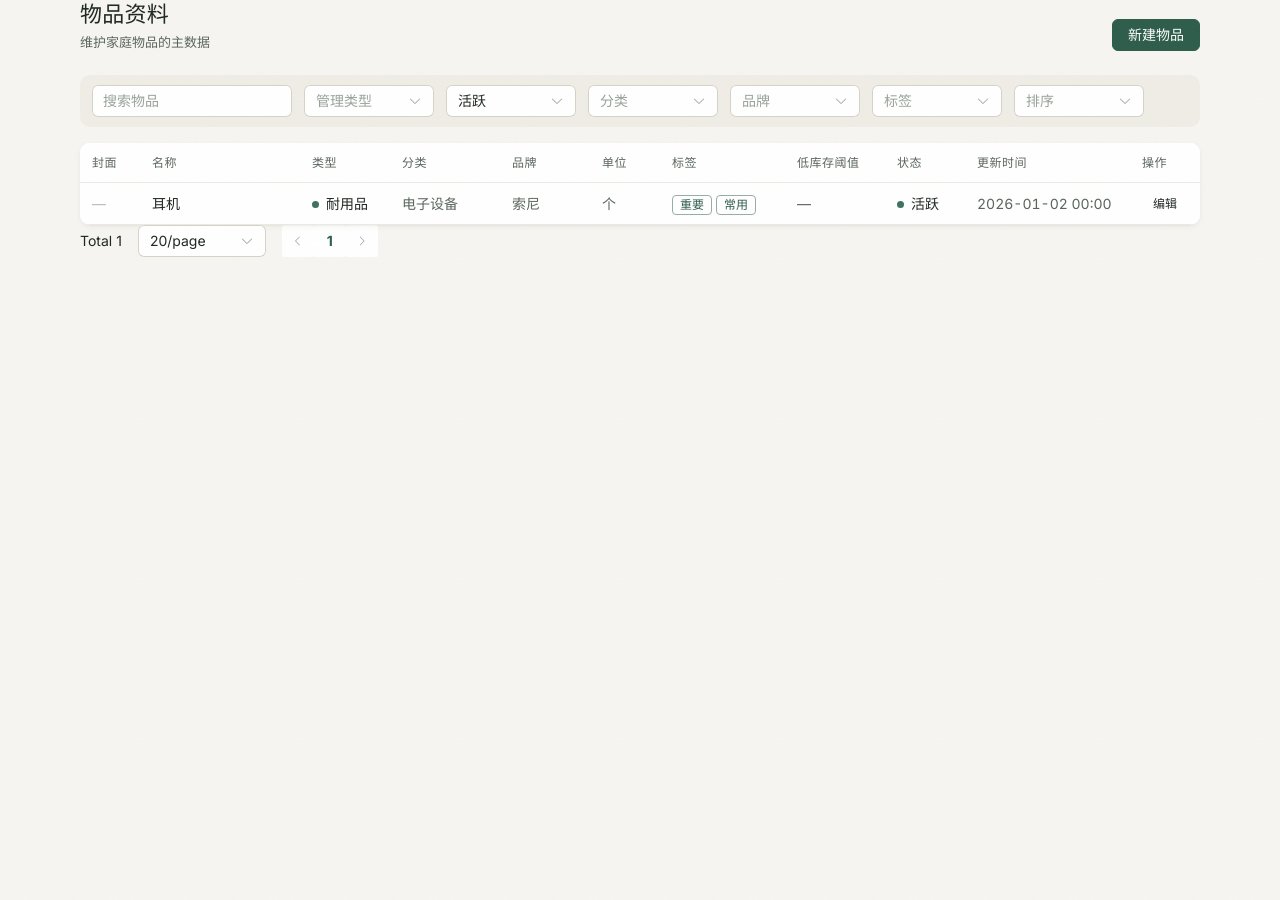
ItemsPage › displays memo and expiry reminder info in detail drawer
The width and height of the screenshot is (1280, 900).
What coordinates should you click on to do the following:
click the row "— 耳机 耐用品 电子设备 索尼 个 重要 常用 — 活跃 2026-01-02 00:00 编辑"
I would click on:
 (640, 204)
Its box is [80, 183, 1200, 225].
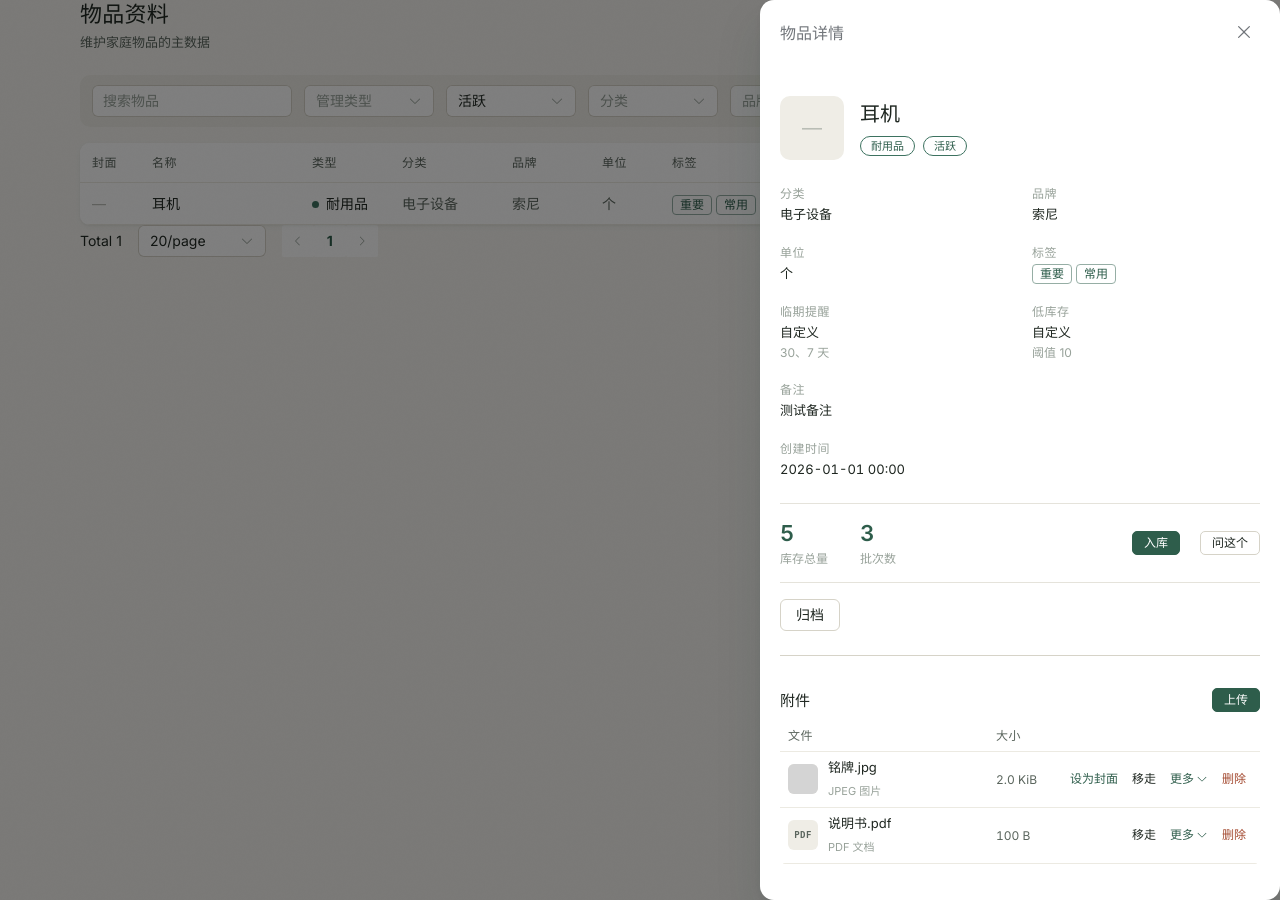
Expected: the element that starts with "物品资料" shows "测试备注", [780, 402, 832, 418]
Expected: the element that starts with "物品资料" shows "自定义", [780, 324, 819, 340]
Expected: the element that starts with "物品资料" shows "30", [780, 346, 829, 360]
